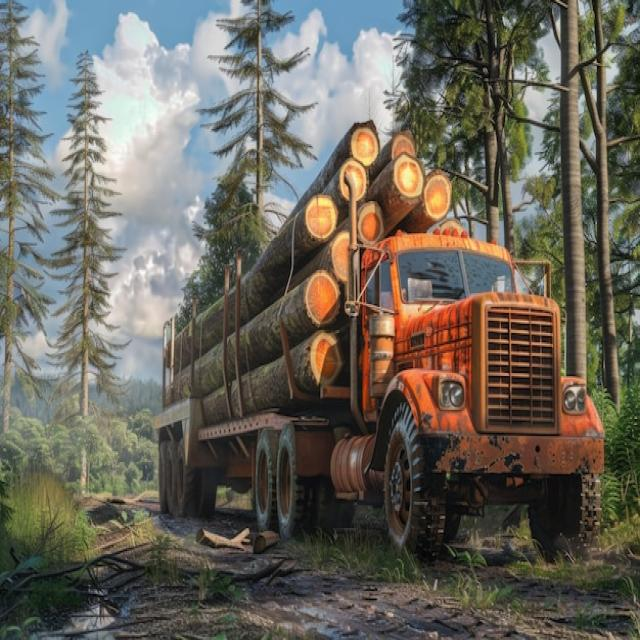Truck: (155, 166, 609, 542)
